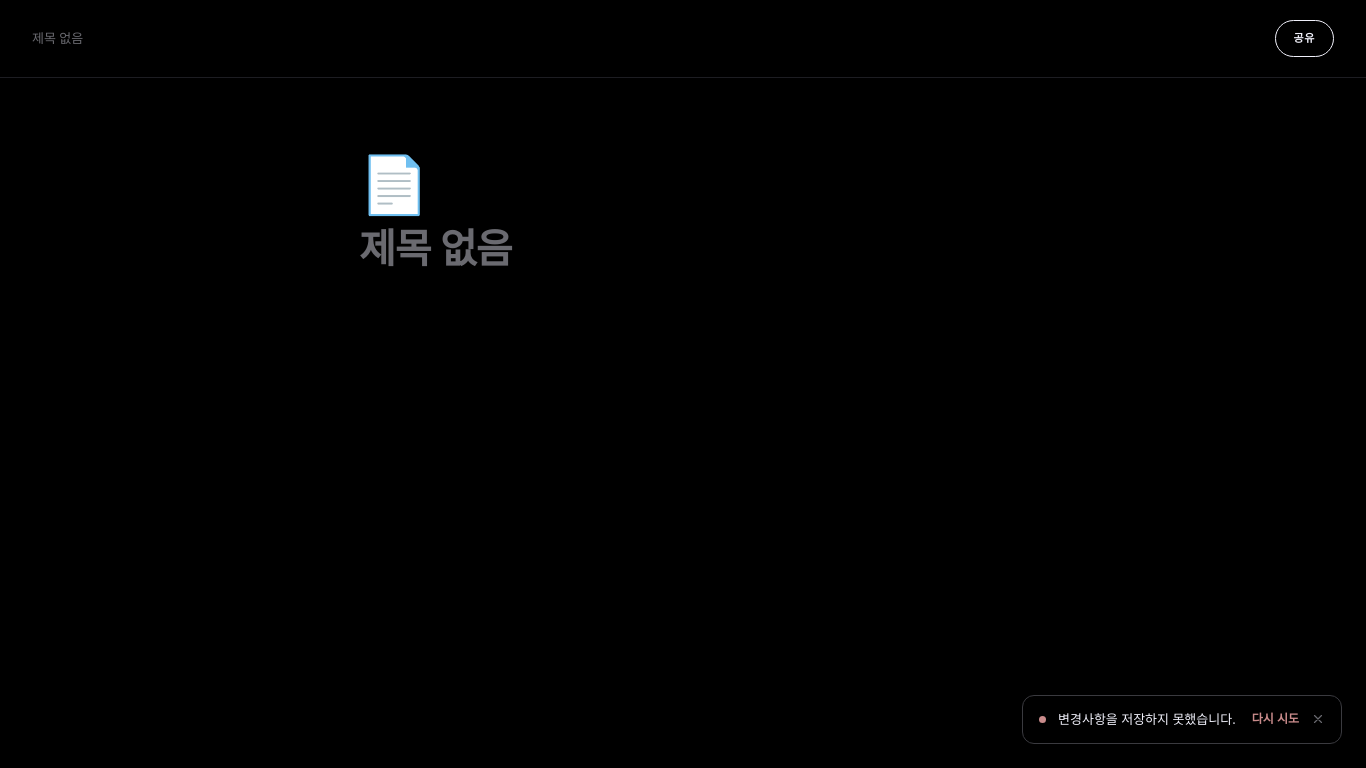
Test case: EditorContainer — 제목 저장 실패 토스트 (saveWithToast) › AC-10: 재시도가 성공하면 토스트가 소멸한다
The width and height of the screenshot is (1366, 768).
Expected: the message "변경사항을 저장하지 못했습니다. 다시 시도" is shown, [1022,694,1342,744]
Click the button "다시 시도" at (1275, 719), box [1252,711,1299,727]
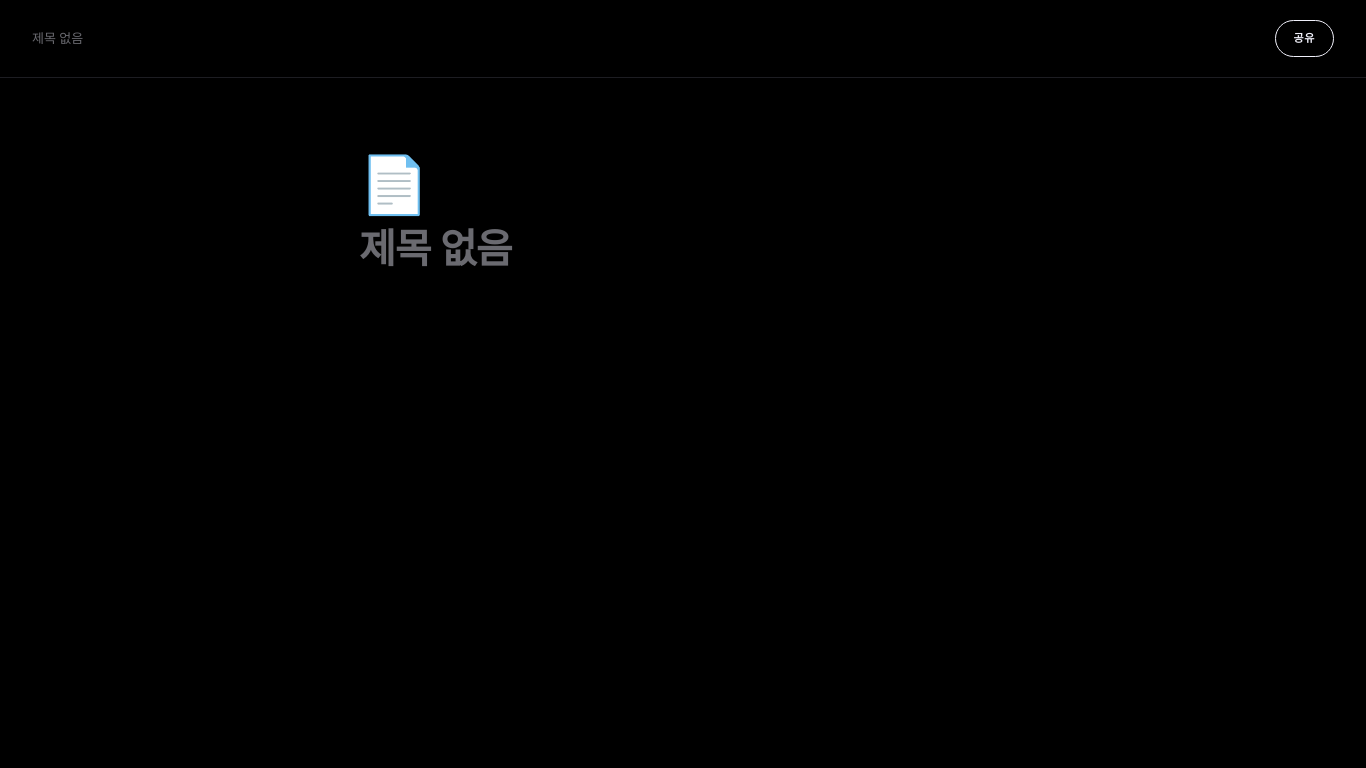
Expected: the message "변경사항을 저장하지 못했습니다. 다시 시도" is gone
